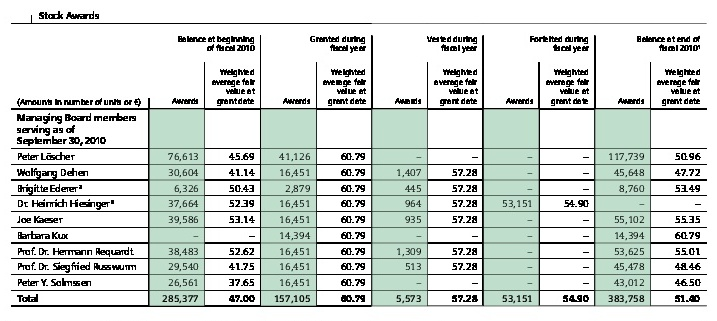table: (0, 0, 717, 321)
